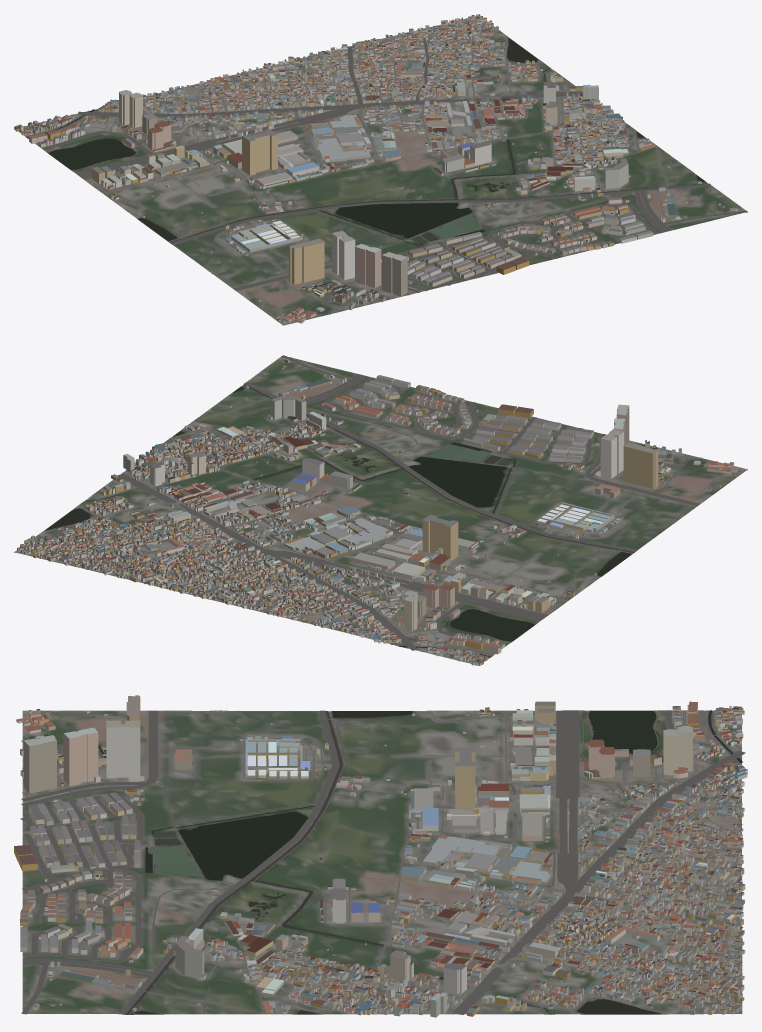
The picture shows the model from 3 angles, top to bottom: view 1: azimuth 30°, elevation 25°; view 2: azimuth 150°, elevation 25°; view 3: azimuth 270°, elevation 25°; orthographic projection. The views are drawn at different scales.
Parts seen in each view (by area): view 1: buildings, ground, roads, water; view 2: buildings, ground, roads, water; view 3: ground, buildings, roads, water.
Part boxes in pixels (x1,y1,x2,y2): buildings: [14, 14, 737, 323]; ground: [18, 16, 747, 325]; roads: [24, 16, 747, 323]; water: [26, 37, 707, 313]; buildings: [17, 358, 742, 665]; ground: [14, 356, 747, 663]; roads: [18, 355, 741, 662]; water: [44, 384, 705, 657]; ground: [22, 710, 742, 1014]; buildings: [14, 695, 747, 1017]; roads: [20, 710, 745, 1014]; water: [29, 710, 742, 1014].
Size of the model in its own units: 1423 by 113 by 1430.
